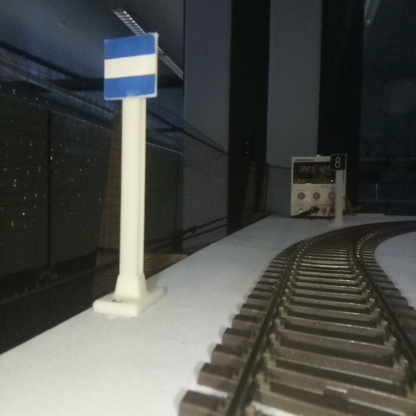start: (103, 34, 156, 313)
